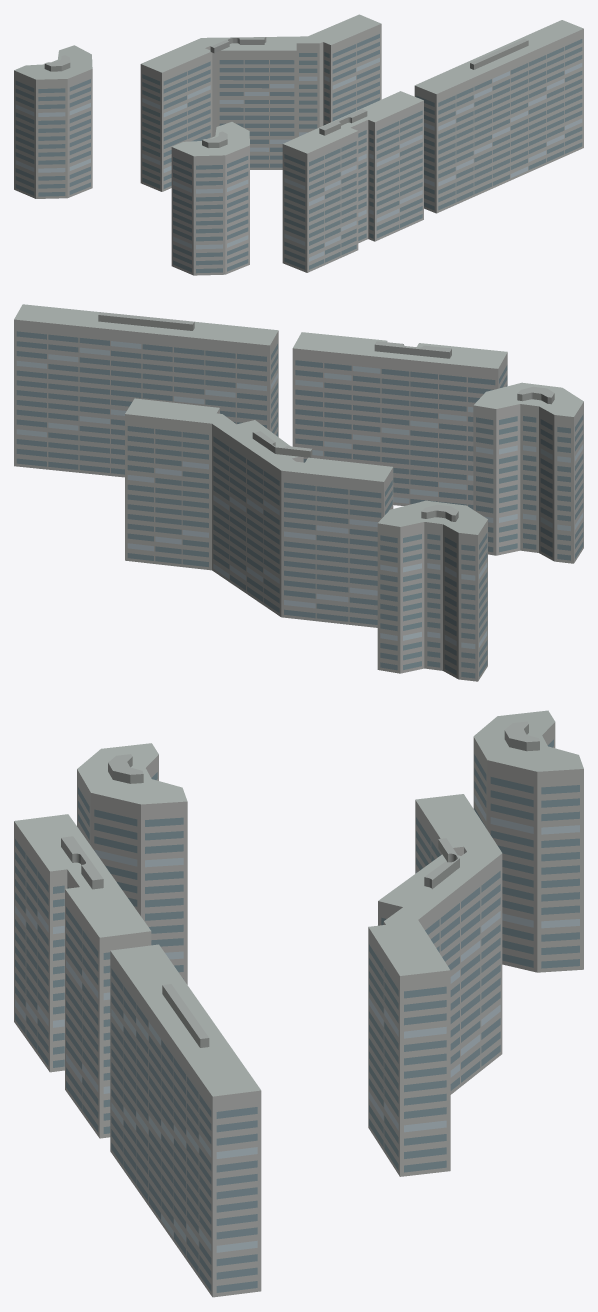
The model's file is apt-a13204508.glb.
3 views of the same model, one above another, from view 1: azimuth 30°, elevation 25°; view 2: azimuth 150°, elevation 25°; view 3: azimuth 270°, elevation 25° (orthographic). The views are drawn at different scales.
Parts seen in each view (by area): view 1: apt-a13204508; view 2: apt-a13204508; view 3: apt-a13204508.
Boxes of the visible parts, bbox=[...] form: apt-a13204508: bbox=[14, 14, 583, 275]; apt-a13204508: bbox=[14, 304, 583, 681]; apt-a13204508: bbox=[14, 710, 583, 1297].
Bounding box in the file's own units: 189 × 47.81 × 118.
